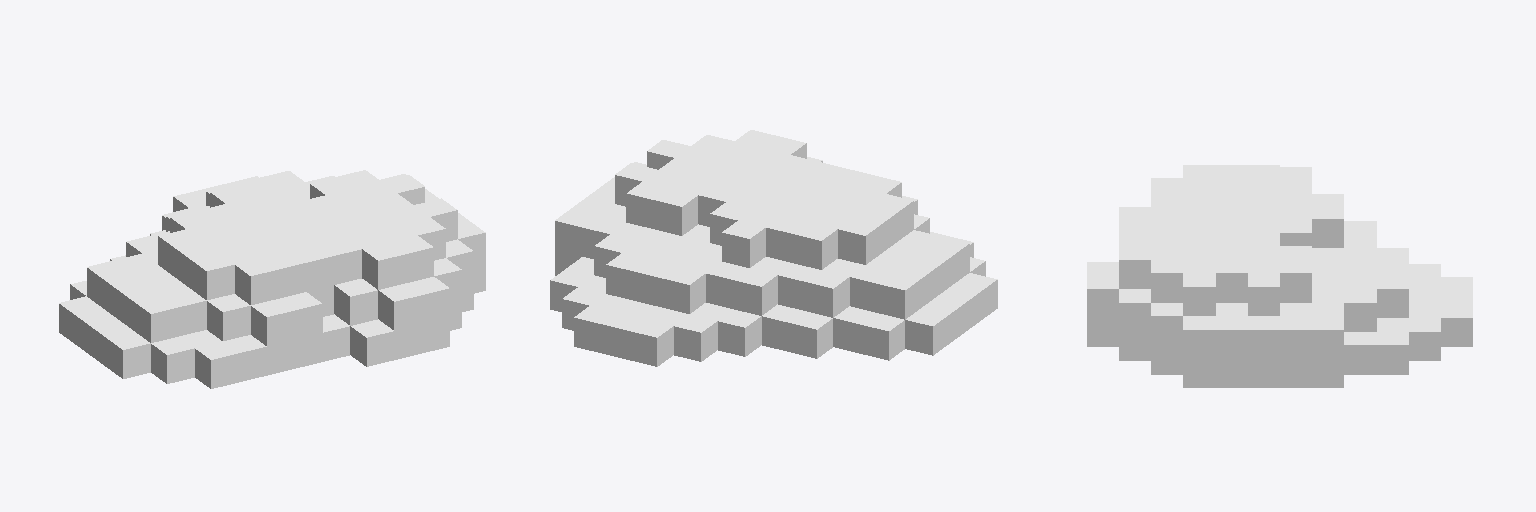
The model's file is Stone2_O.obj.
3 renders of one model, left to right at view 1: azimuth 30°, elevation 25°; view 2: azimuth 150°, elevation 25°; view 3: azimuth 270°, elevation 25°, orthographic.
Visible parts, largest first — view 1: Stone2_O; view 2: Stone2_O; view 3: Stone2_O.
Boxes of the visible parts, box(x1,y1,x2,y2) form: Stone2_O: box(59, 170, 485, 388); Stone2_O: box(550, 130, 997, 366); Stone2_O: box(1087, 165, 1472, 387).
Size of the model in its own units: 1.3 by 0.3 by 1.2.